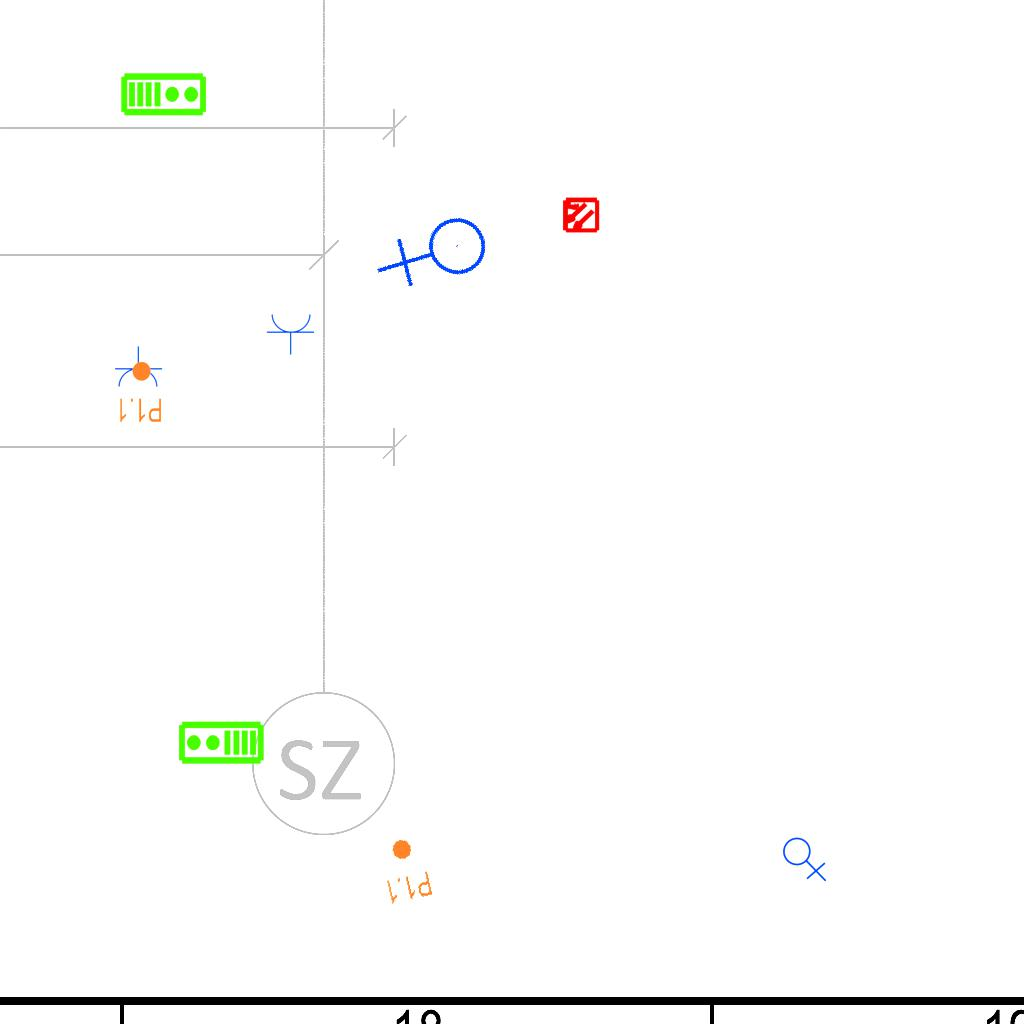Downlight_LED_Einbauleuchten_Flur: (375, 833, 435, 907), (117, 360, 163, 424)
Elektroanschluss_allgemein_230V_Geraeteanschlussdose_230V: (373, 191, 504, 321), (782, 833, 829, 882)
Gegensprechanlage_mit_Video: (120, 70, 208, 117), (177, 720, 265, 767)
OT_Multisensormelder_(Kombination_RMO_WMD): (552, 187, 608, 243)
Schukosteckdose_einfach: (266, 312, 316, 355), (113, 346, 163, 389)
